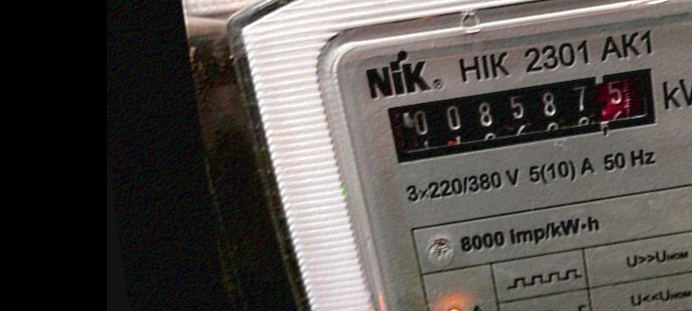0: (411, 107, 432, 138), (445, 103, 465, 133)
5: (607, 78, 628, 110), (508, 93, 529, 123)
7: (571, 83, 592, 115)
8: (539, 88, 561, 120), (476, 100, 496, 130)
screen: (368, 52, 679, 178)
